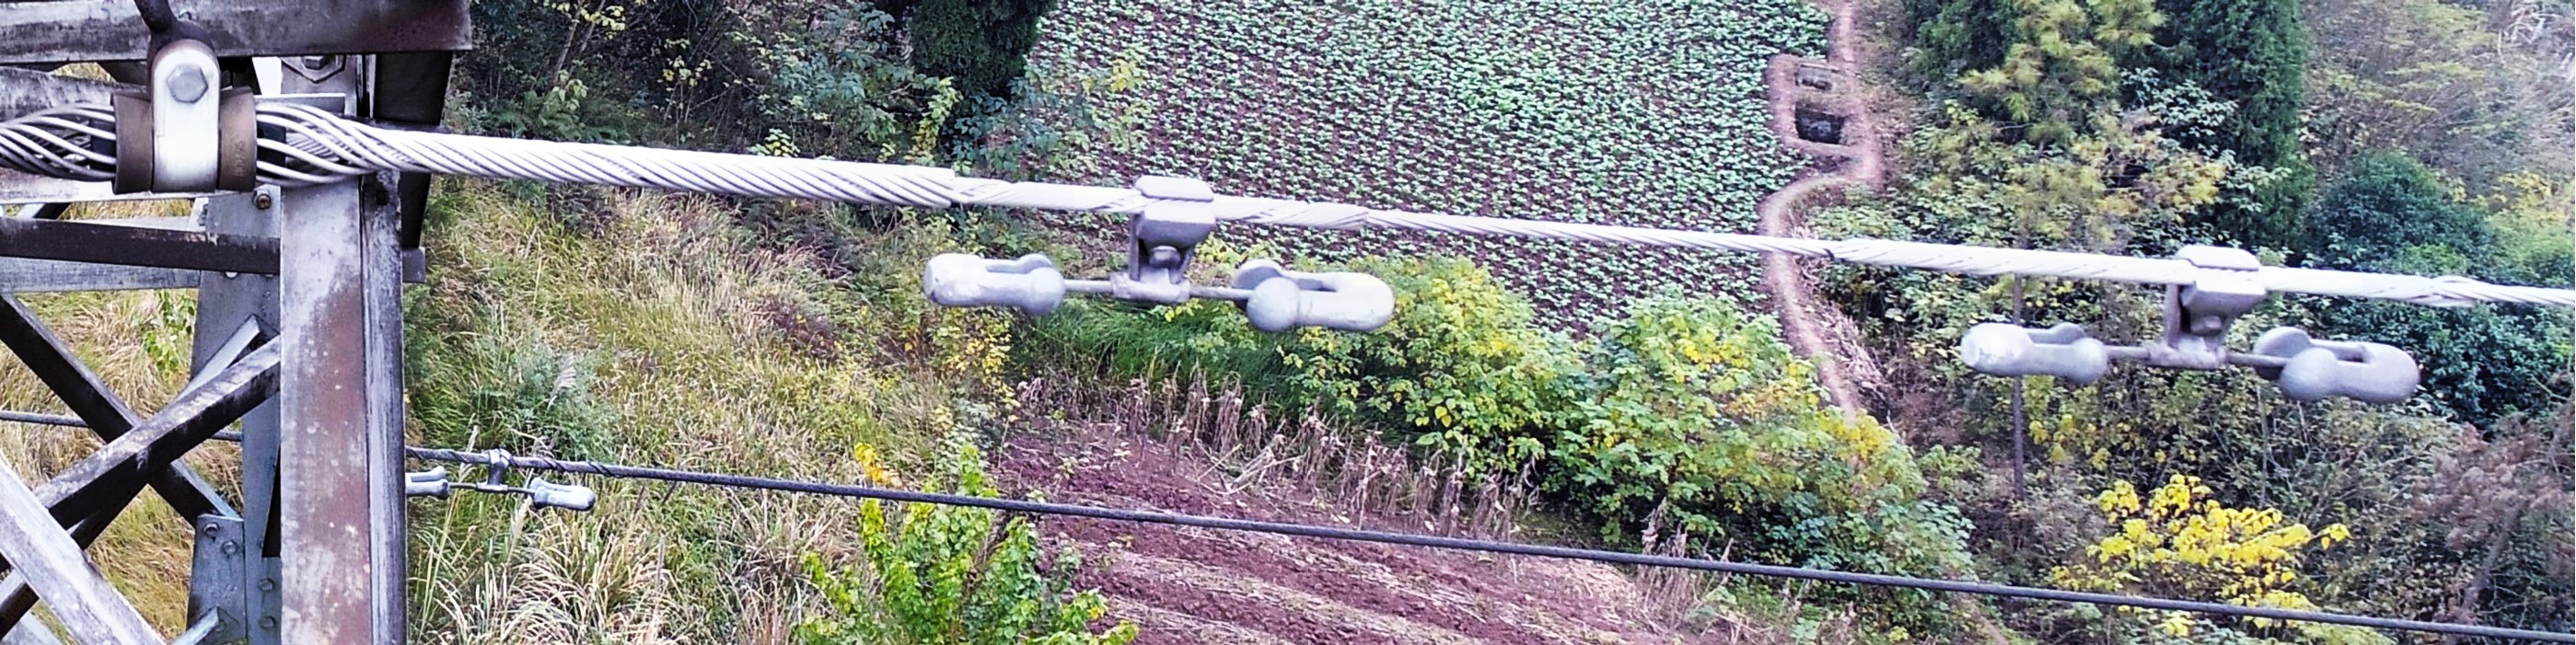Shockproof hammer: (907, 158, 1405, 358), (1940, 226, 2426, 422)
